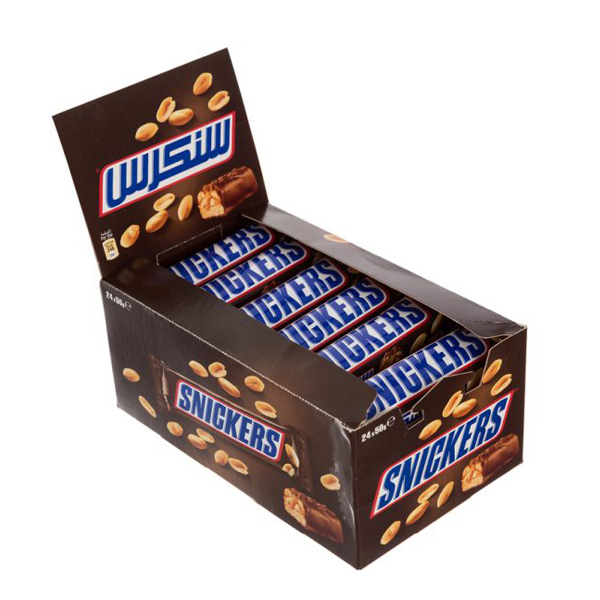snickers: (377, 395, 511, 506), (361, 321, 486, 417), (361, 326, 486, 417), (169, 377, 278, 457), (316, 296, 425, 368), (177, 381, 278, 457), (316, 296, 420, 368), (279, 280, 384, 347), (199, 237, 307, 300), (240, 260, 346, 323), (162, 220, 269, 282), (240, 260, 342, 323)
